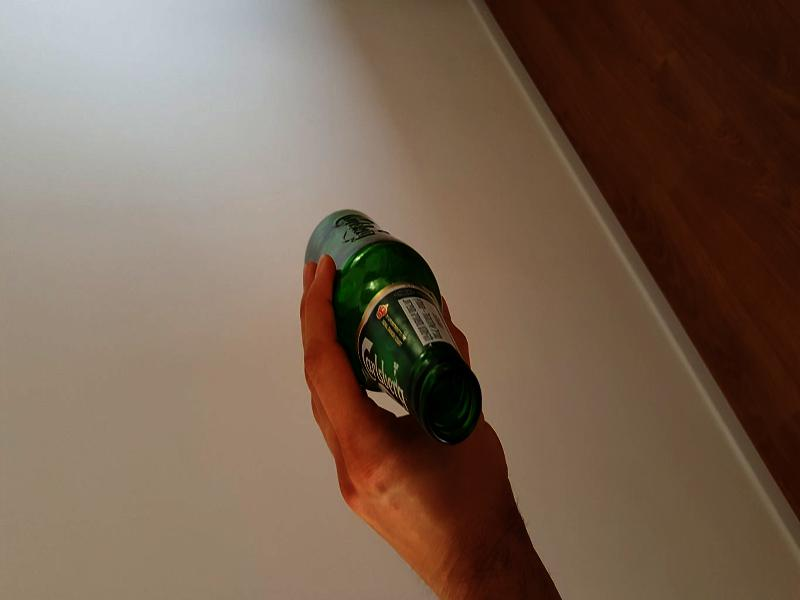Beer: (307, 209, 485, 445)
